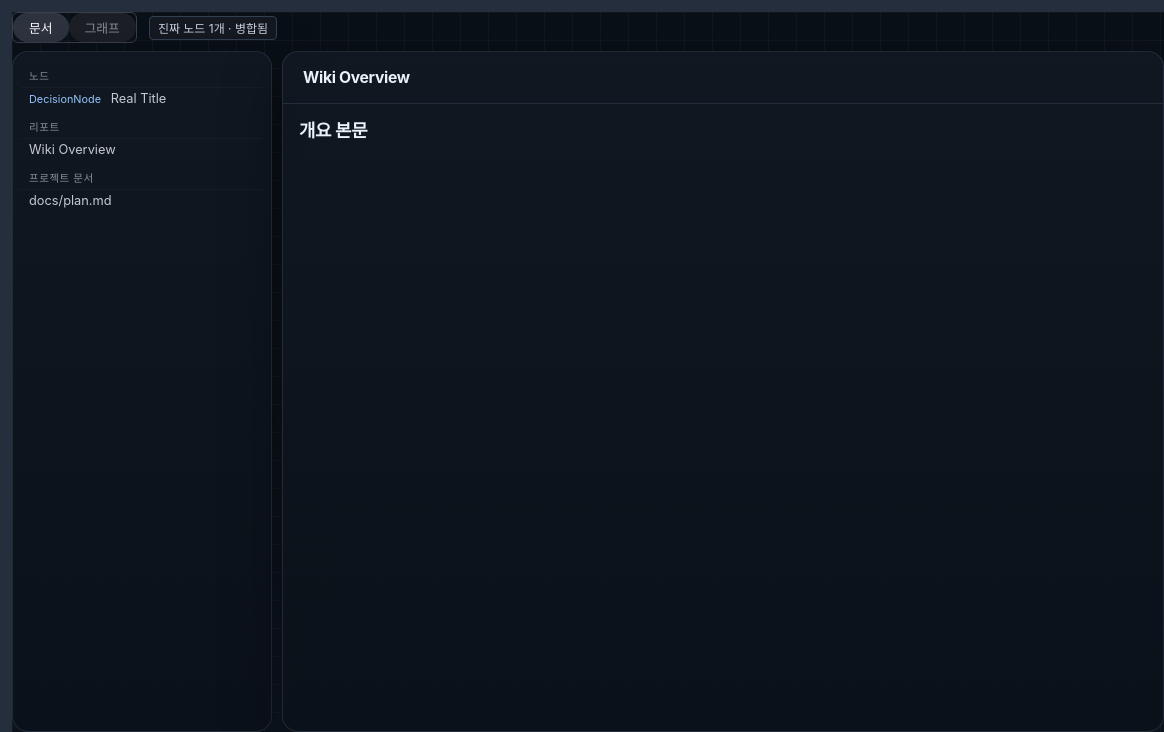
Test: KnowledgeView › clicking a real staged node loads it via harnessReadStagedDoc
The width and height of the screenshot is (1164, 732).
Click the button "DecisionNode Real Title" at {"x": 142, "y": 98}, box [19,87,265,110]
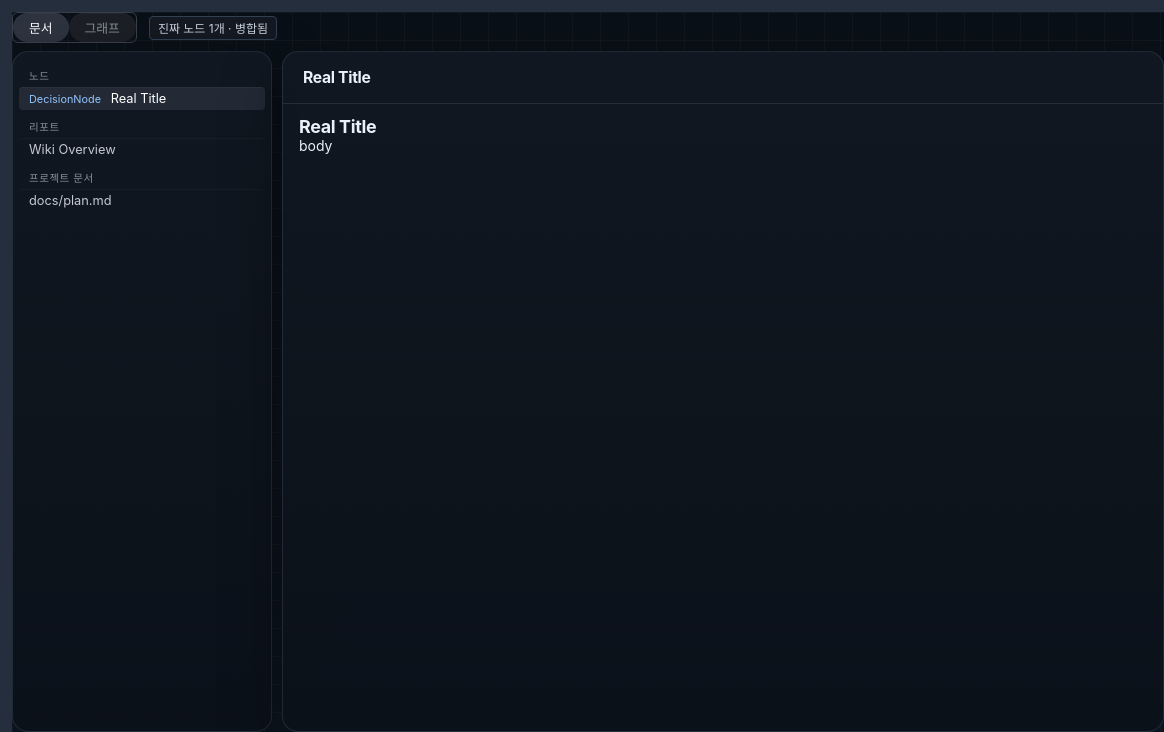
Check: the text "body" is shown, box [299,137,332,154]
